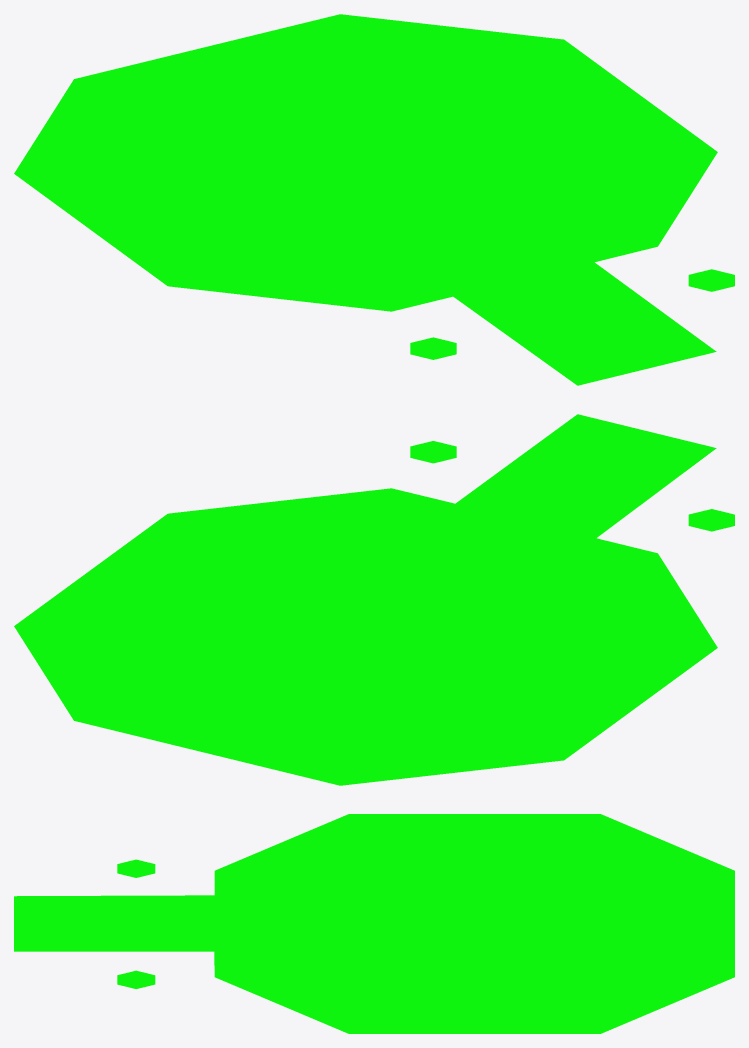
File: s04a_sa1-floor.glb
3 renders of one model, top to bottom at view 1: azimuth 30°, elevation 25°; view 2: azimuth 150°, elevation 25°; view 3: azimuth 270°, elevation 25°, orthographic. The views are drawn at different scales.
Parts seen in each view (by area): view 1: collision_floor-colonly; view 2: collision_floor-colonly; view 3: collision_floor-colonly.
Part boxes in pixels (bbox=[...]): collision_floor-colonly: bbox=[14, 14, 734, 385]; collision_floor-colonly: bbox=[14, 414, 734, 785]; collision_floor-colonly: bbox=[14, 814, 734, 1033].
Size of the model in its own units: 23.71 by 0.0312 by 32.86.
